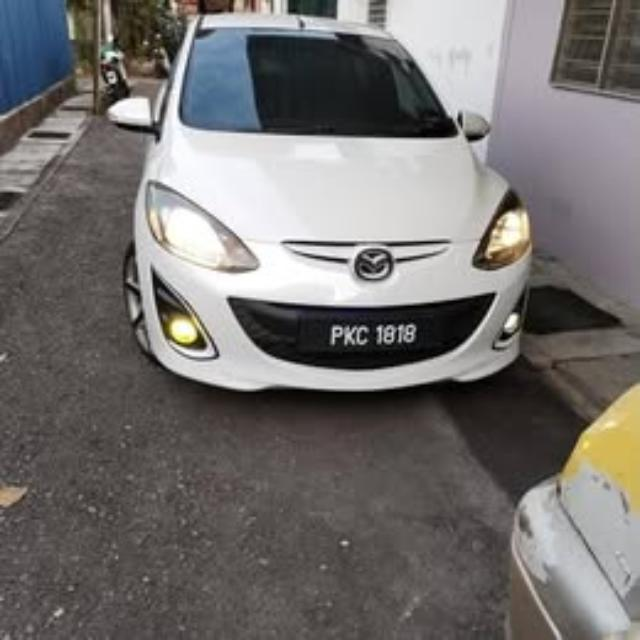License_Plate: (320, 326, 426, 351)
car: (105, 11, 533, 395)
